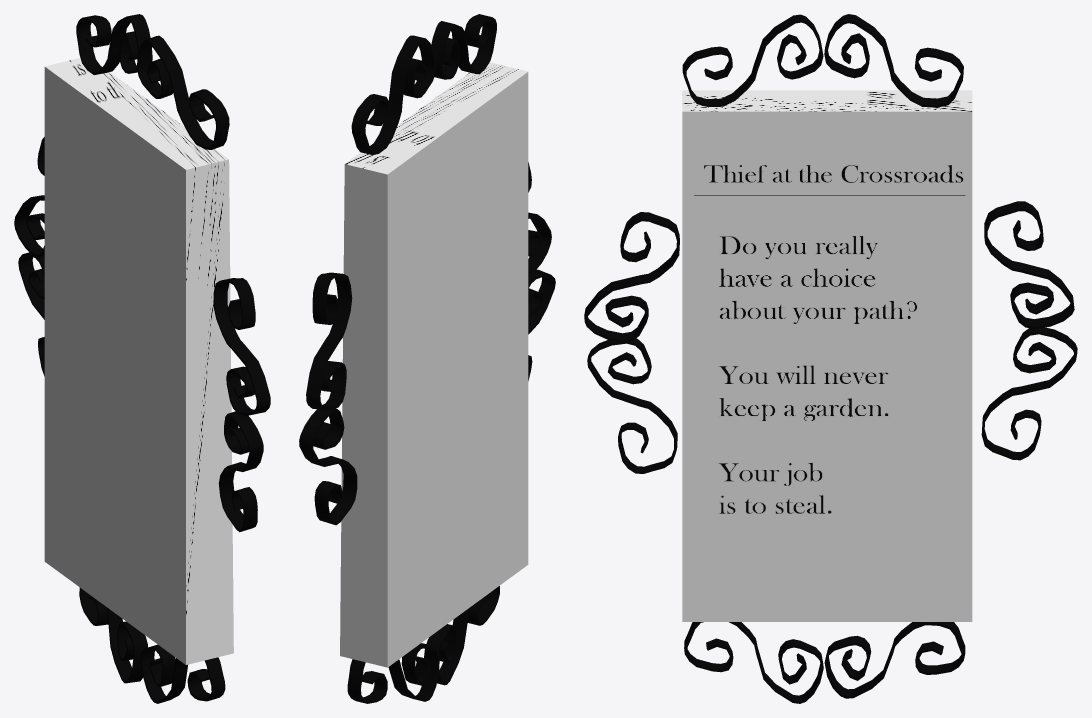
File: spawn thief at crossroads.fbx
3 views of the same model, side by side, from view 1: azimuth 30°, elevation 25°; view 2: azimuth 150°, elevation 25°; view 3: azimuth 270°, elevation 25° (orthographic). The views are drawn at different scales.
Parts seen in each view (by area): view 1: pCube1, nurbsToPoly3, nurbsToPoly5, nurbsToPoly4, nurbsToPoly6; view 2: pCube1, nurbsToPoly6, nurbsToPoly3, nurbsToPoly4, nurbsToPoly5; view 3: pCube1, nurbsToPoly6, nurbsToPoly3, nurbsToPoly5, nurbsToPoly4.
Boxes of the visible parts, box(x1,y1,x2,y2) form: pCube1: box(44, 58, 233, 664); nurbsToPoly3: box(76, 14, 229, 149); nurbsToPoly5: box(213, 278, 270, 532); nurbsToPoly4: box(79, 587, 225, 703); nurbsToPoly6: box(14, 137, 44, 376); pCube1: box(340, 62, 528, 667); nurbsToPoly6: box(299, 272, 357, 525); nurbsToPoly3: box(351, 14, 496, 154); nurbsToPoly4: box(347, 586, 499, 703); nurbsToPoly5: box(528, 162, 555, 381); pCube1: box(682, 90, 972, 621); nurbsToPoly6: box(981, 201, 1077, 460); nurbsToPoly3: box(682, 14, 963, 107); nurbsToPoly5: box(584, 212, 679, 473); nurbsToPoly4: box(684, 622, 965, 703).
Size of the model in its own units: 1.56 by 20.81 by 13.6.
